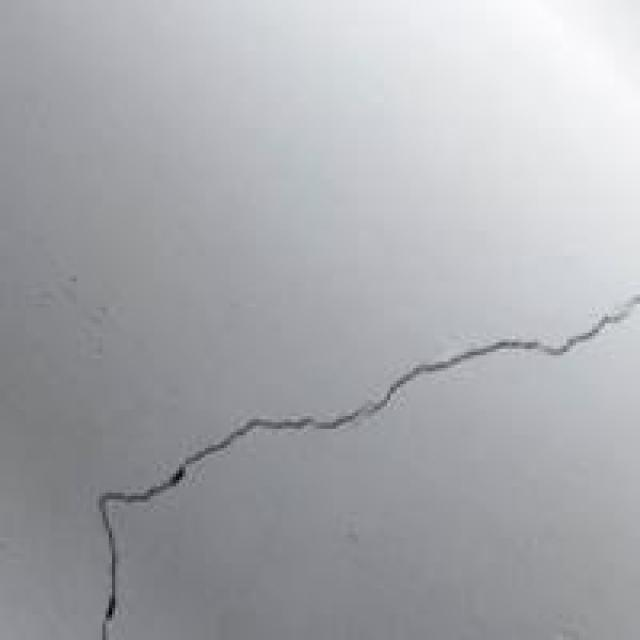Crack: (64, 272, 637, 637)
